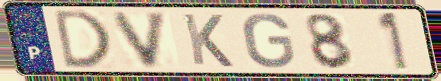1: (374, 10, 412, 74)
8: (304, 12, 358, 71)
D: (51, 8, 113, 71)
G: (241, 12, 298, 70)
K: (179, 11, 237, 69)
V: (108, 10, 172, 70)
